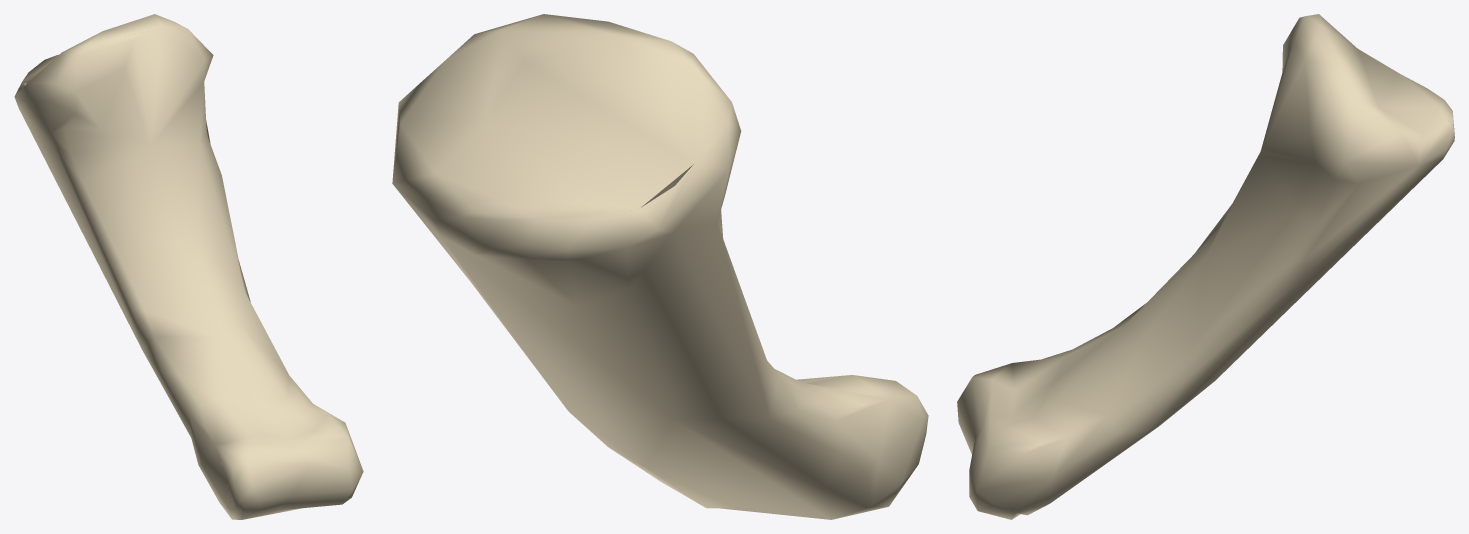
The model's file is esqueleto-middle-phalanx-of-fourth-finger-of-hand-l.glb.
3 renders of one model, left to right at view 1: azimuth 30°, elevation 25°; view 2: azimuth 150°, elevation 25°; view 3: azimuth 270°, elevation 25°, orthographic. The views are drawn at different scales.
Visible parts, largest first — view 1: Middle phalanx of fourth finger of hand.l; view 2: Middle phalanx of fourth finger of hand.l; view 3: Middle phalanx of fourth finger of hand.l.
Boxes of the visible parts, x1,y1,x2,y2 form: Middle phalanx of fourth finger of hand.l: (14, 14, 363, 519); Middle phalanx of fourth finger of hand.l: (392, 14, 928, 519); Middle phalanx of fourth finger of hand.l: (957, 14, 1454, 519).
Bounding box in the file's own units: 0.0126 × 0.0247 × 0.025.
